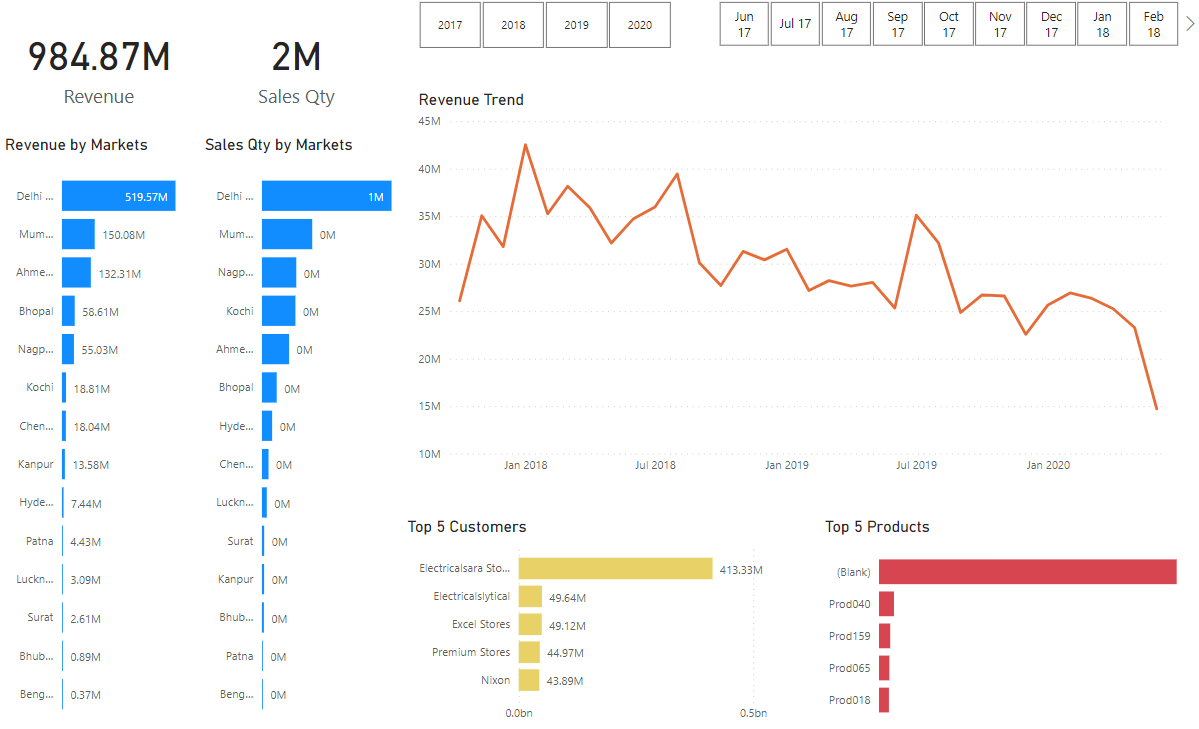

This screenshot's page, from the dashboard's own definition file:
{"tool":"powerbi","page":{"name":"Top 5 Customer and Products","canvas":[1280,784],"ordinal":0},"visuals":[{"type":"card","fields":{"Values":["BaseMeasures.Revenue"]},"box":[0,0,210.4,151],"z":0},{"type":"card","fields":{"Values":["BaseMeasures.Sales Qty"]},"box":[210.4,0,210.4,151],"z":1000},{"type":"barChart","title":"Revenue by Markets","fields":{"Category":["sales markets.markets_name"],"Y":["BaseMeasures.Revenue"]},"box":[0,151,210.4,633],"z":2000},{"type":"barChart","title":"Sales Qty by Markets","fields":{"Y":["BaseMeasures.Sales Qty"],"Category":["sales markets.markets_name"]},"box":[212.3,151,210.4,633],"z":3000},{"type":"slicer","fields":{"Values":["sales date.year"]},"box":[420.7,1.9,317.5,63.1],"z":4000},{"type":"slicer","fields":{"Values":["sales date.cy_date"]},"box":[740.2,1,538.6,60.6],"z":5000},{"type":"barChart","title":"Top 5 Customers","fields":{"Category":["sales customers.custmer_name"],"Y":["BaseMeasures.Revenue"]},"box":[429,556.2,443.8,227.5],"z":6000},{"type":"barChart","title":"Top 5 Products","fields":{"Category":["sales products.product_code"],"Y":["BaseMeasures.Revenue"]},"box":[873,556.1,405.7,227.9],"z":7000},{"type":"lineChart","title":"Revenue Trend","fields":{"Y":["BaseMeasures.Revenue"],"Category":["sales date.cy_date"]},"box":[440.2,102.3,820,417],"z":8000}]}

Visuals, with their boxes in screenshot pixels (x1, y1, x2, y2), scaled from the page's 1280x784 canvas onto the 1199x729 screenshot:
card - BaseMeasures.Revenue: rect(0, 0, 197, 140)
card - BaseMeasures.Sales Qty: rect(197, 0, 394, 140)
"Revenue by Markets" barChart: rect(0, 140, 197, 728)
"Sales Qty by Markets" barChart: rect(199, 140, 396, 728)
slicer - sales date.year: rect(394, 2, 691, 60)
slicer - sales date.cy_date: rect(693, 1, 1198, 57)
"Top 5 Customers" barChart: rect(402, 517, 818, 728)
"Top 5 Products" barChart: rect(818, 517, 1198, 728)
"Revenue Trend" lineChart: rect(412, 95, 1180, 483)
